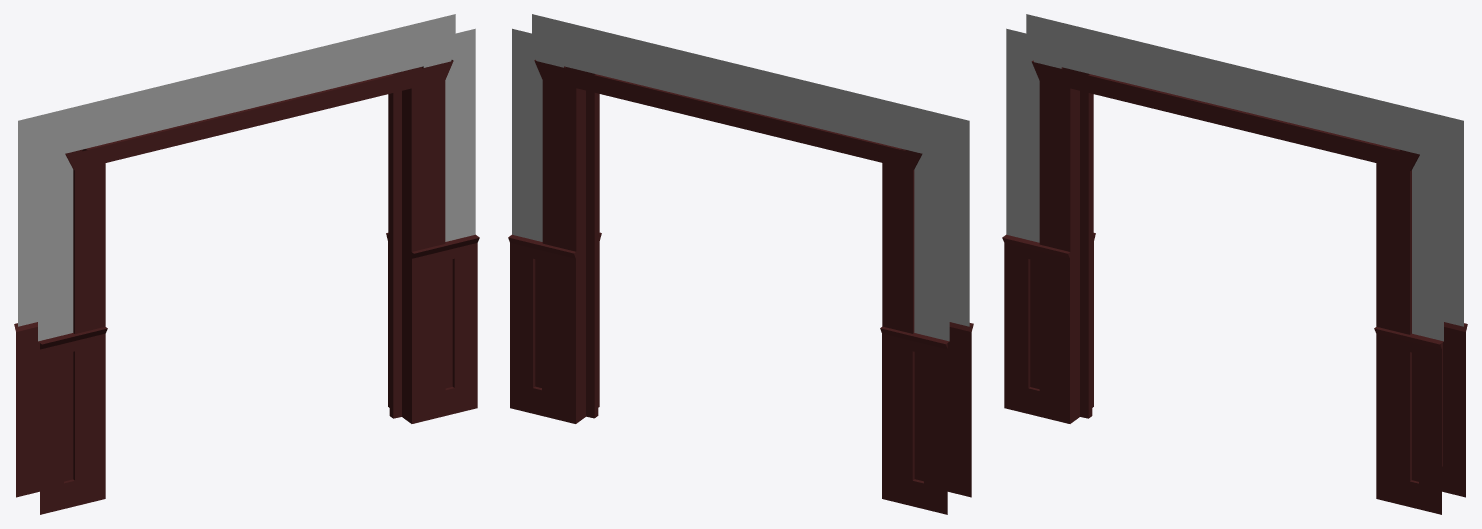
File: 2DoorFrame.fbx
3 views of the same model, side by side, from view 1: azimuth 30°, elevation 25°; view 2: azimuth 150°, elevation 25°; view 3: azimuth 330°, elevation 25° (orthographic).
Visible parts, largest first — view 1: polySurface57; view 2: polySurface57; view 3: polySurface57.
Boxes of the visible parts, x1,y1,x2,y2 form: polySurface57: [14, 14, 479, 514]; polySurface57: [508, 14, 973, 514]; polySurface57: [1002, 14, 1467, 514].
Size of the model in its own units: 3.84 by 3.17 by 0.4259.
